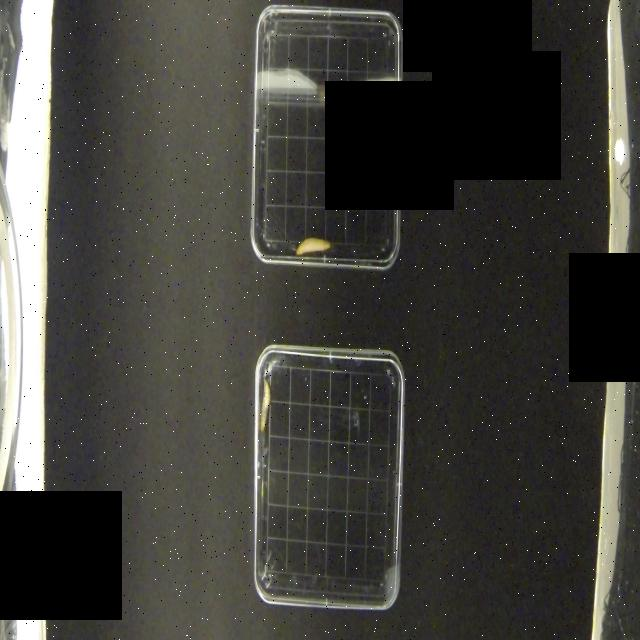larva: (295, 236, 331, 256), (260, 382, 273, 432)
